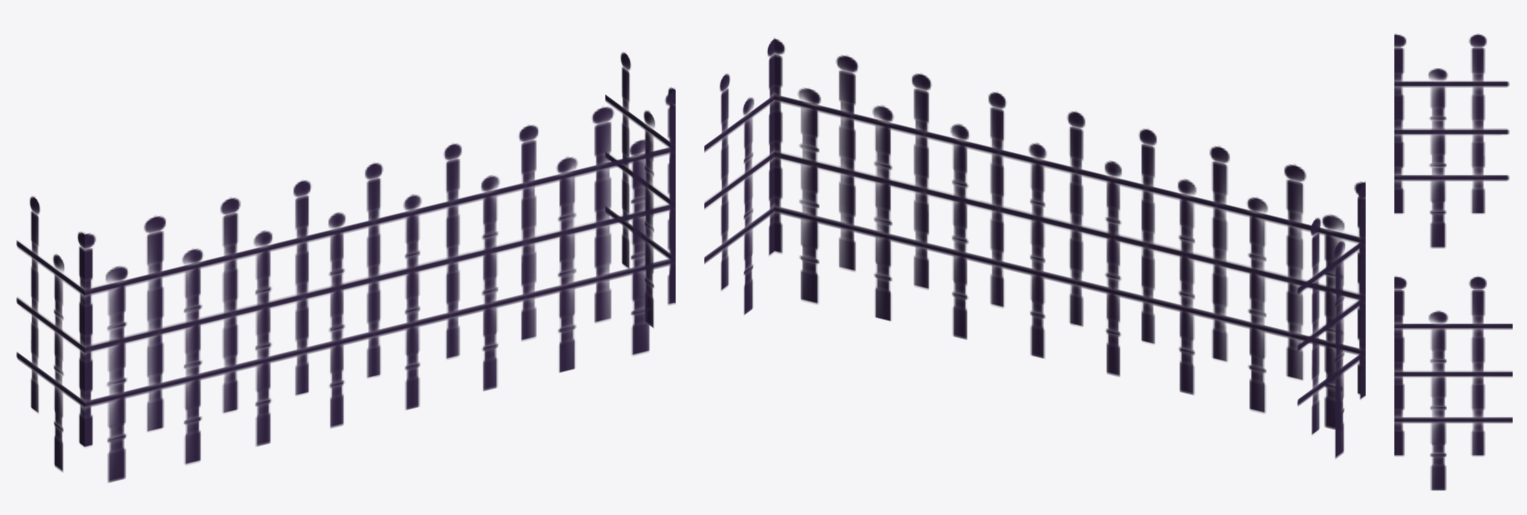
The model's file is pm-fence.glb.
The picture shows the model from 3 angles, left to right: view 1: azimuth 30°, elevation 25°; view 2: azimuth 150°, elevation 25°; view 3: azimuth 270°, elevation 25°; orthographic projection. The views are drawn at different scales.
Visible parts, largest first — view 1: Fence; view 2: Fence; view 3: Fence.
Boxes of the visible parts, left/top/right/bottom form: Fence: left=16, top=52, right=675, bottom=482; Fence: left=704, top=38, right=1365, bottom=458; Fence: left=1394, top=33, right=1512, bottom=490.
Size of the model in its own units: 3.14 by 1.48 by 0.6477.
1 material, 1 textured.
